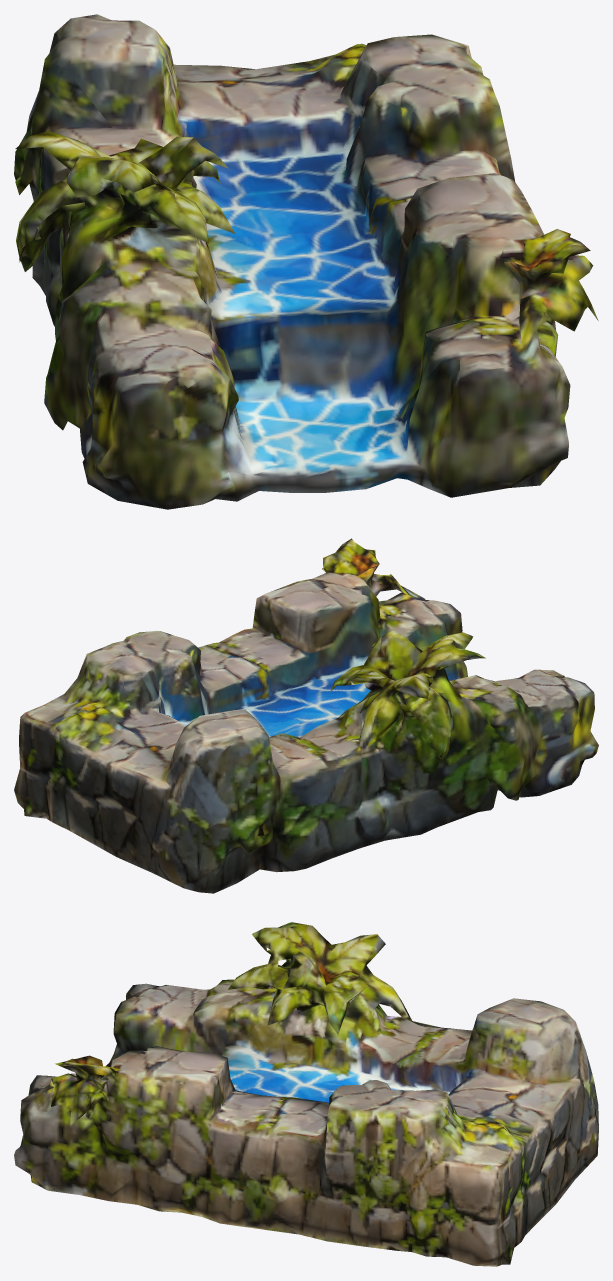
Rendered from SummerDecor_FirstRoom_CascadePool.fbx.
3 views of the same model, one above another, from view 1: azimuth 30°, elevation 25°; view 2: azimuth 150°, elevation 25°; view 3: azimuth 270°, elevation 25° (orthographic). The views are drawn at different scales.
Parts seen in each view (by area): view 1: SummerDecor_FirstRoom_CascadePool_Mesh; view 2: SummerDecor_FirstRoom_CascadePool_Mesh; view 3: SummerDecor_FirstRoom_CascadePool_Mesh.
Boxes of the visible parts, x1,y1,x2,y2 form: SummerDecor_FirstRoom_CascadePool_Mesh: [14, 14, 598, 509]; SummerDecor_FirstRoom_CascadePool_Mesh: [14, 538, 598, 893]; SummerDecor_FirstRoom_CascadePool_Mesh: [14, 922, 598, 1266].
Size of the model in its own units: 5.01 by 2.03 by 6.
Materials: 1 (1 with a texture image).
